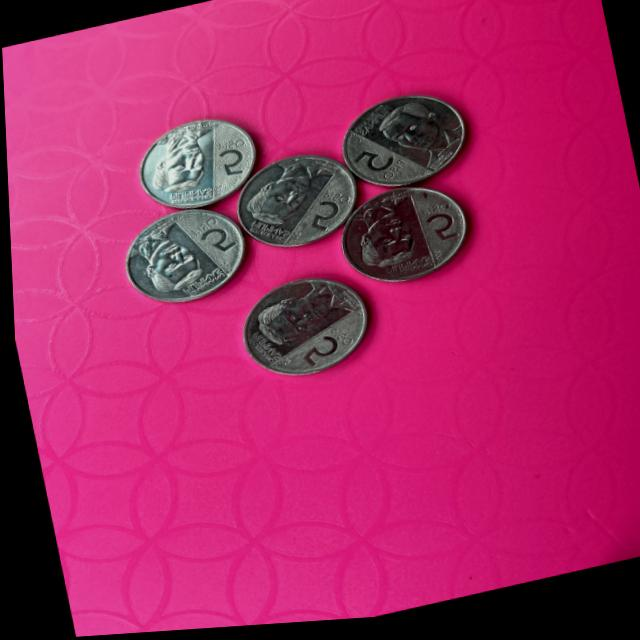5_New_Front: (282, 324, 354, 379), (405, 201, 462, 267), (201, 130, 261, 189), (291, 186, 356, 239), (344, 141, 401, 199), (190, 207, 242, 259)
